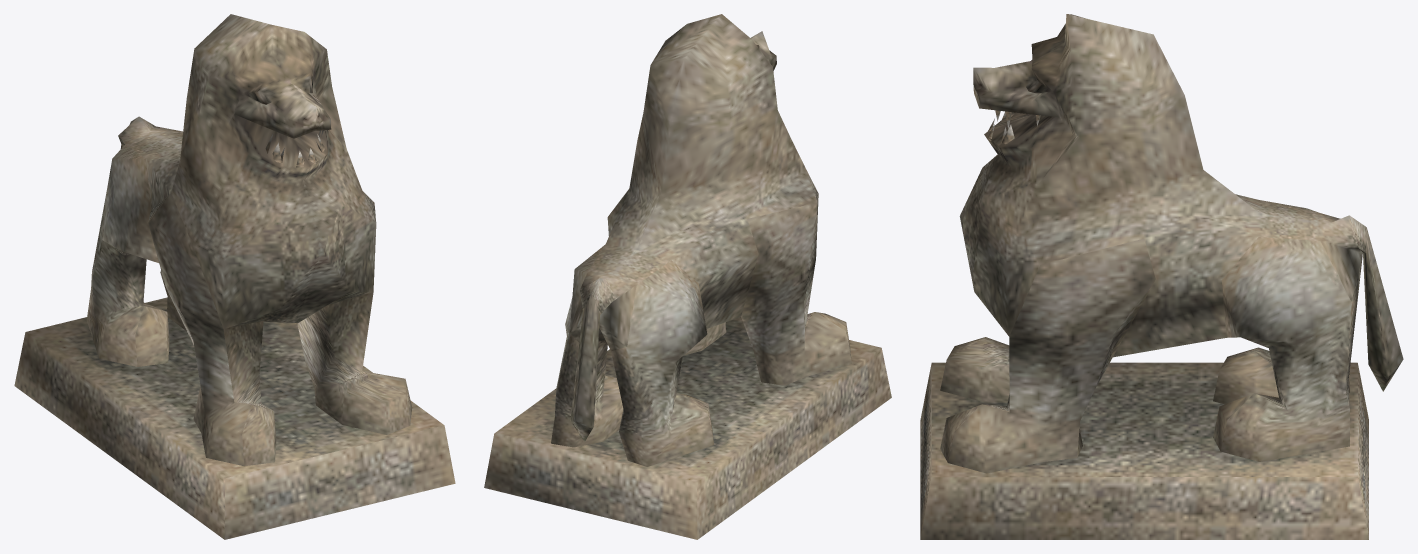
The model's file is desert_lionstone_lod_01.glb.
3 renders of one model, left to right at view 1: azimuth 30°, elevation 25°; view 2: azimuth 150°, elevation 25°; view 3: azimuth 270°, elevation 25°, orthographic. The views are drawn at different scales.
Parts seen in each view (by area): view 1: Bip01; view 2: Bip01; view 3: Bip01.
Boxes of the visible parts, <box> form: Bip01: <box>14,14,455,539</box>; Bip01: <box>484,14,891,539</box>; Bip01: <box>920,14,1403,539</box>.
Size of the model in its own units: 2.77 by 5.01 by 4.71.
Materials: 1 (1 with a texture image).
